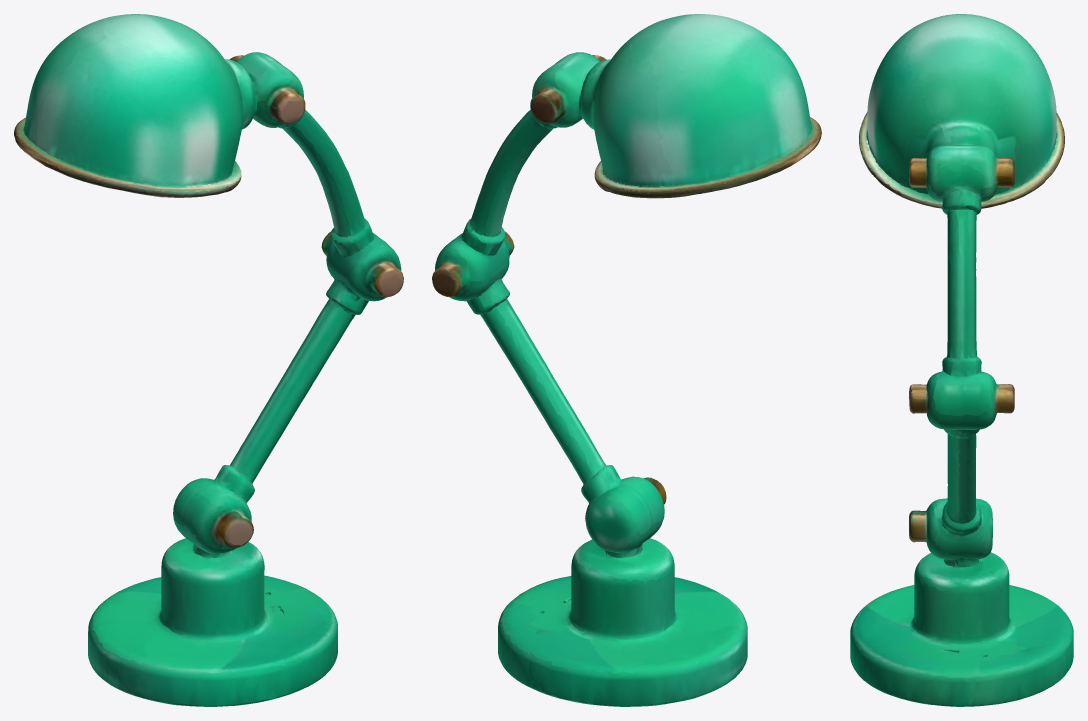
Rendered from lamp.glb.
3 views of the same model, side by side, from view 1: azimuth 30°, elevation 25°; view 2: azimuth 150°, elevation 25°; view 3: azimuth 270°, elevation 25° (orthographic). The views are drawn at different scales.
Visible parts, largest first — view 1: geometry_0; view 2: geometry_0; view 3: geometry_0.
Boxes of the visible parts, x1=… form: geometry_0: x1=14, y1=14, x2=403, y2=706; geometry_0: x1=432, y1=14, x2=821, y2=706; geometry_0: x1=850, y1=14, x2=1073, y2=706.
Size of the model in its own units: 0.2573 by 0.45 by 0.1506.
1 material, 1 textured.
